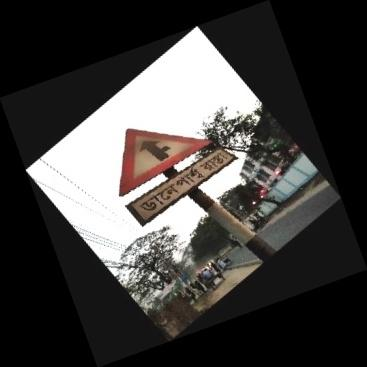Side-road-right: (119, 128, 240, 230)
